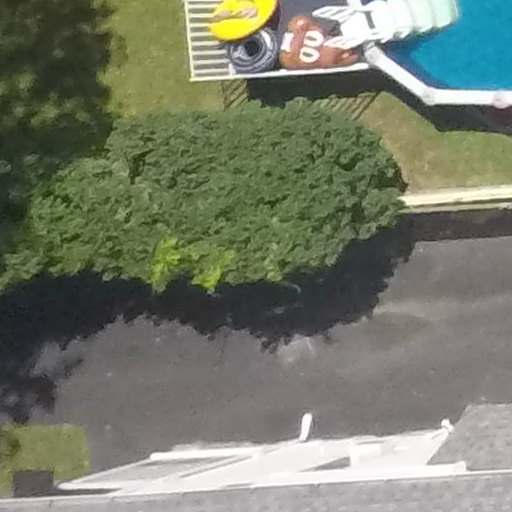driveway: (7, 198, 512, 473)
pool: (353, 1, 507, 110)
toy: (278, 11, 359, 71), (213, 23, 287, 80), (210, 1, 277, 47)
